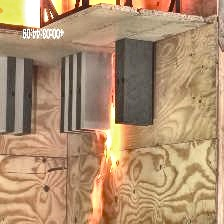fire: (85, 114, 128, 224)
